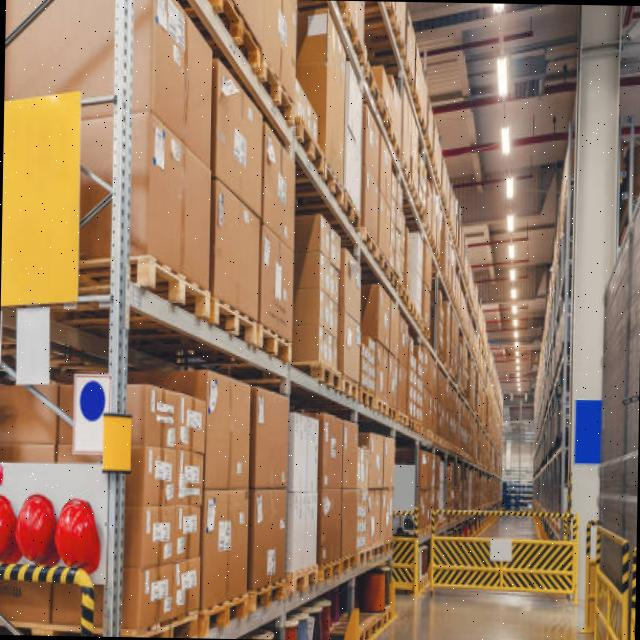Wooden-Pallets: (142, 250, 293, 363), (129, 254, 213, 330), (197, 579, 251, 638), (246, 568, 293, 631), (211, 291, 257, 351), (257, 318, 296, 370), (287, 556, 327, 606), (300, 353, 347, 385), (357, 384, 381, 423), (322, 549, 343, 591)
